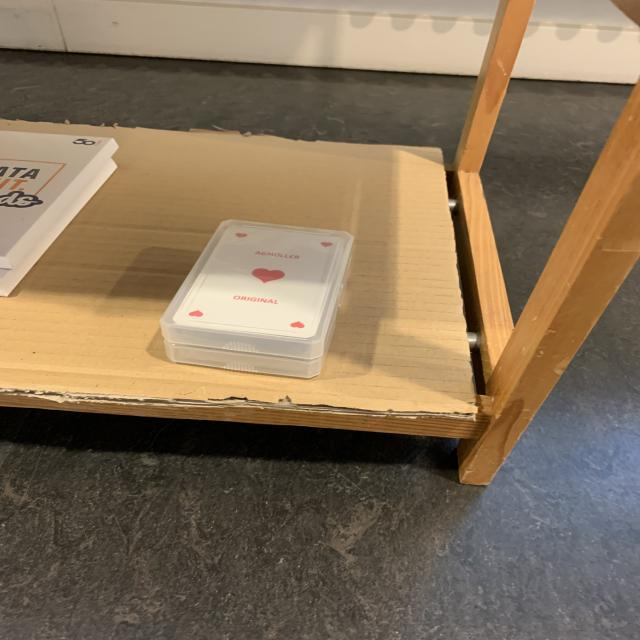Jasskarte: (160, 219, 355, 359), (164, 339, 325, 379)
